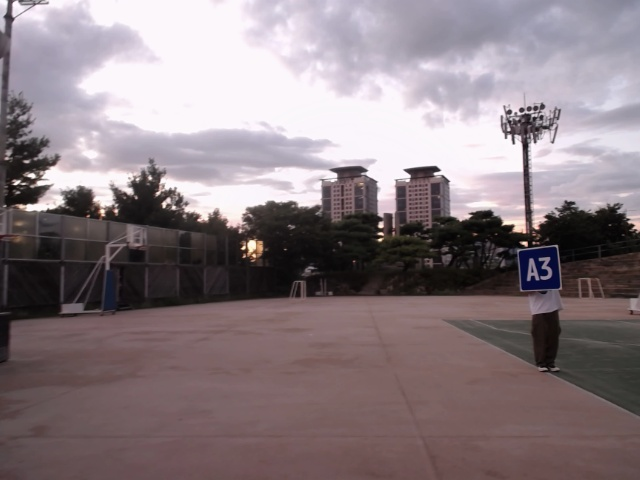delivery_a3: (515, 247, 561, 290)
